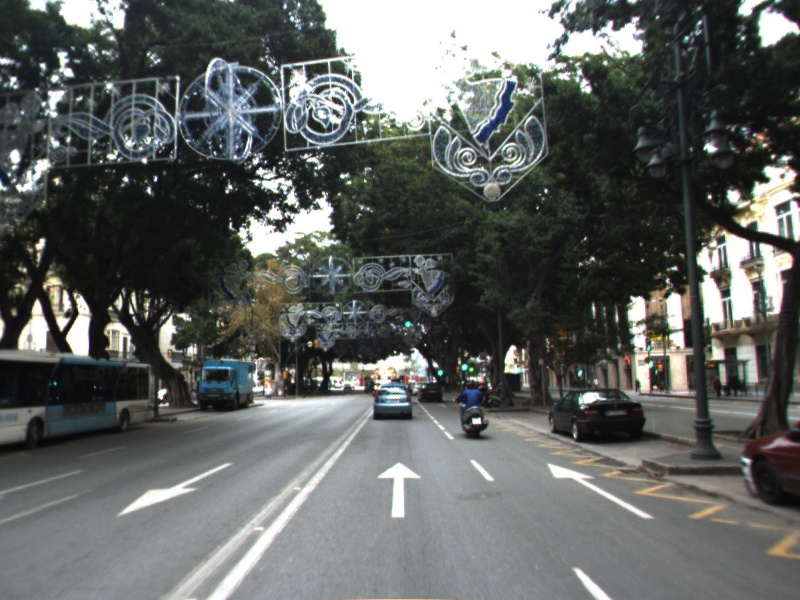STRAIGHT: (545, 461, 656, 521), (375, 460, 424, 520)
